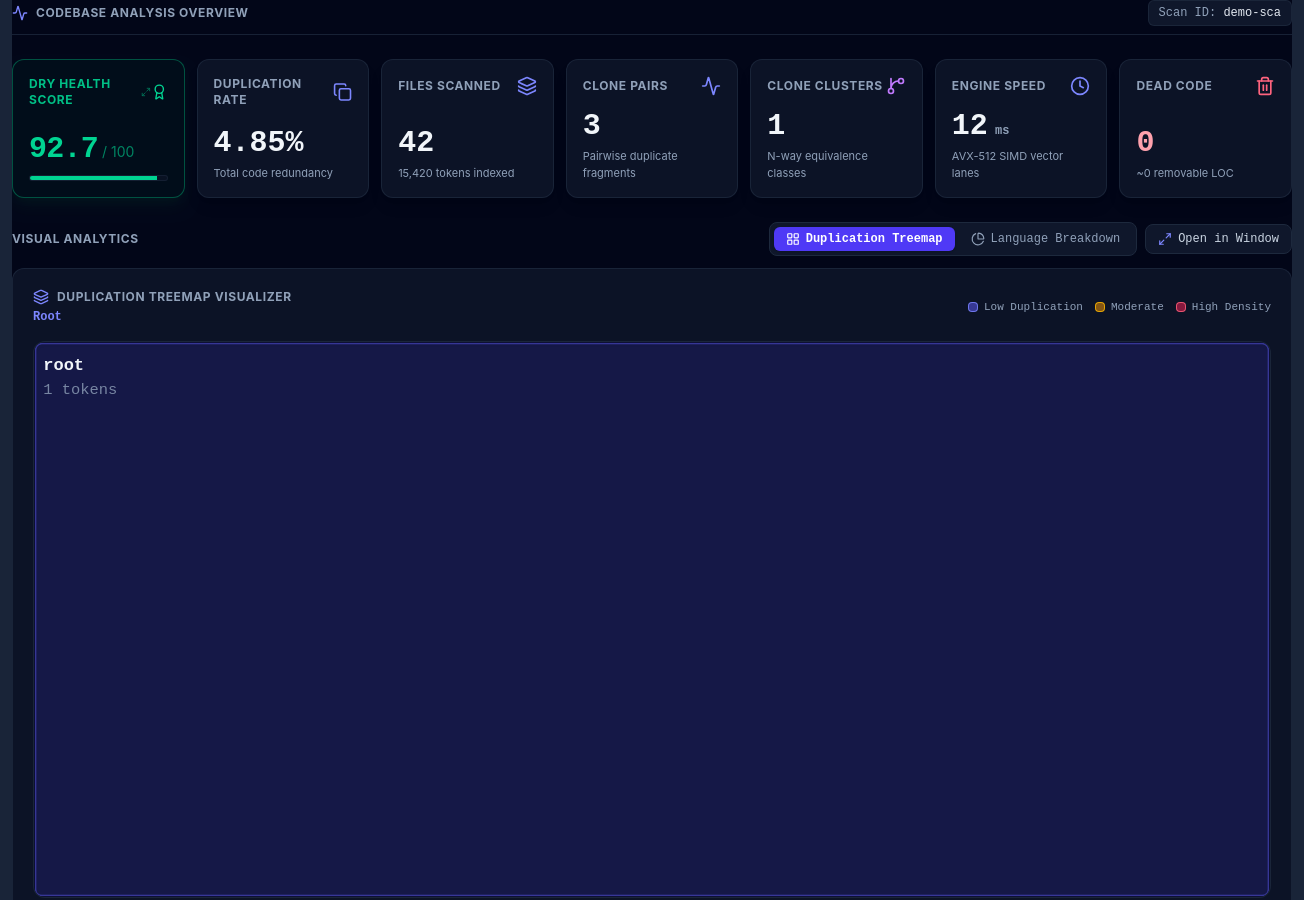
Test: ScanResults Component › should open HealthAuditModal when clicking DRY health score card
The width and height of the screenshot is (1304, 900).
Click the text "DRY Health Score" at (98, 92), box top-left (29, 76), bottom-right (168, 108)
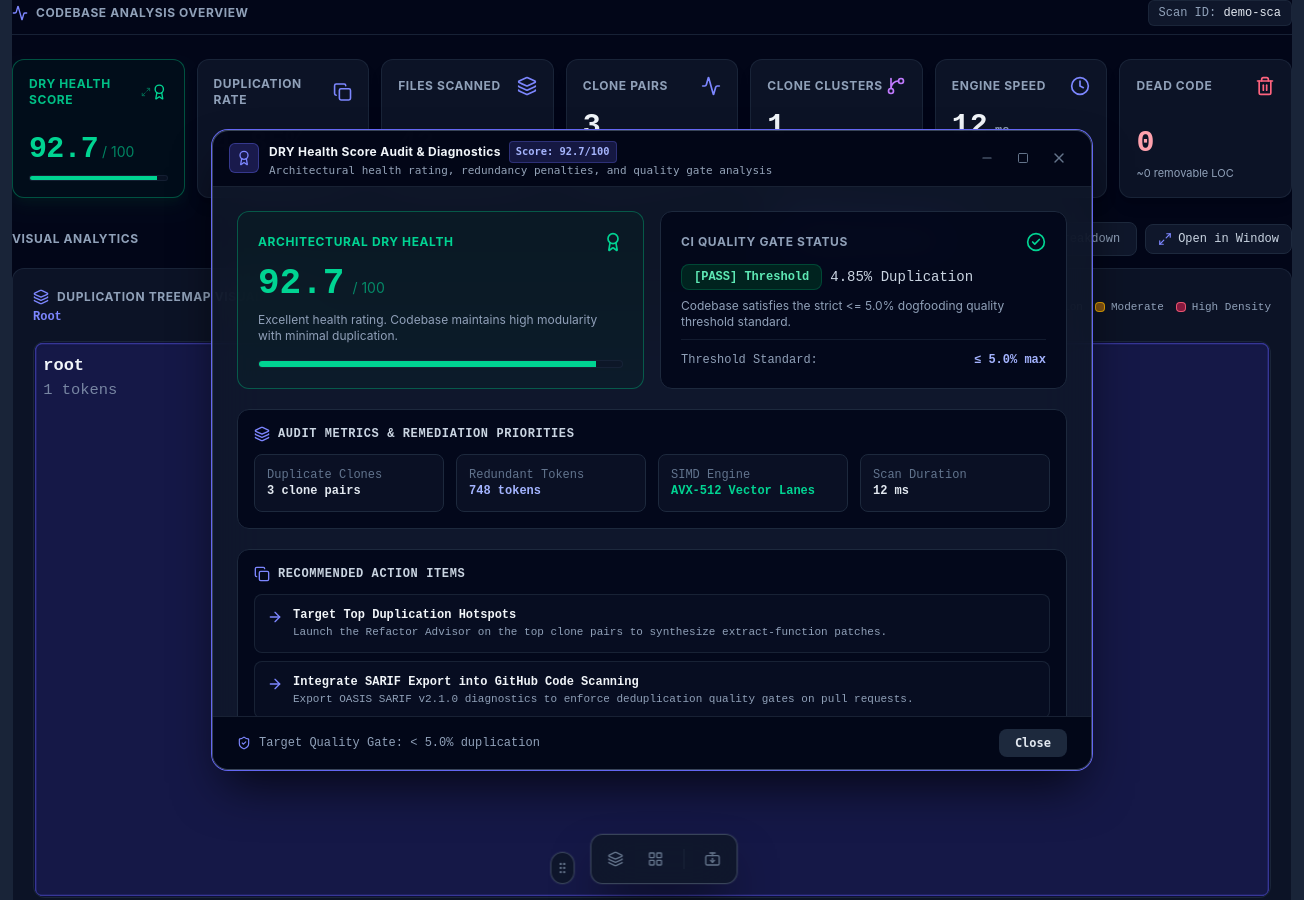
Check: the heading "DRY Health Score Audit & Diagnostics" is shown, box top-left (269, 143), bottom-right (501, 161)
